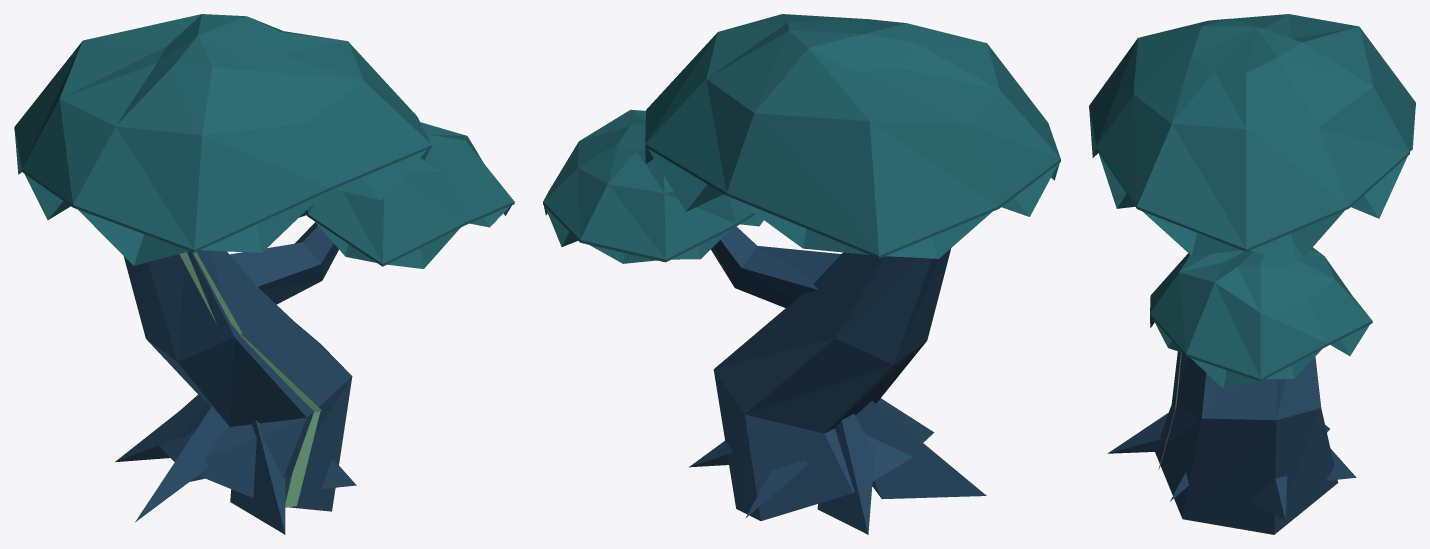
3 renders of one model, left to right at view 1: azimuth 30°, elevation 25°; view 2: azimuth 150°, elevation 25°; view 3: azimuth 270°, elevation 25°, orthographic. The views are drawn at different scales.
Parts seen in each view (by area): view 1: Tree_Library_C; view 2: Tree_Library_C; view 3: Tree_Library_C.
Boxes of the visible parts, x1,y1,x2,y2 form: Tree_Library_C: [14, 14, 514, 534]; Tree_Library_C: [543, 14, 1060, 534]; Tree_Library_C: [1089, 14, 1415, 534].
Bounding box in the file's own units: 1.07 × 1.07 × 0.6945.
